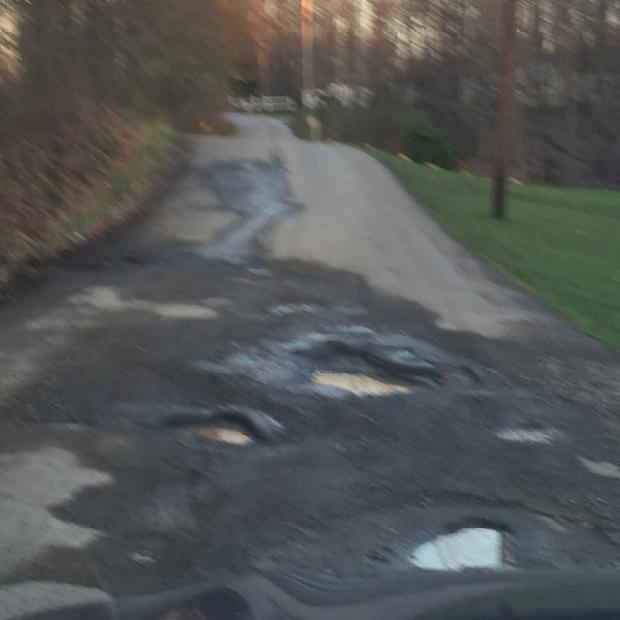lubang: (259, 504, 619, 602), (288, 337, 481, 394), (153, 406, 285, 445)
